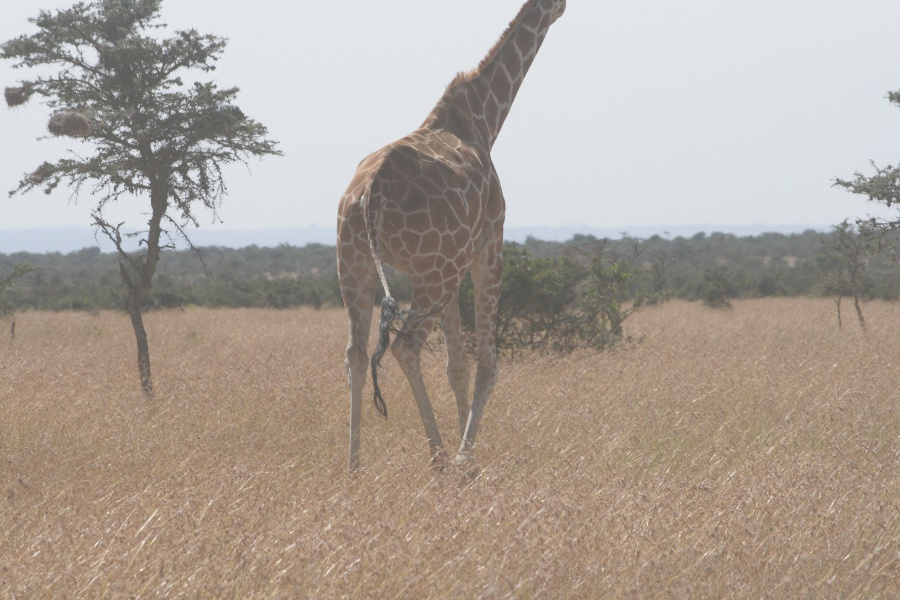giraffe: (321, 0, 578, 493)
